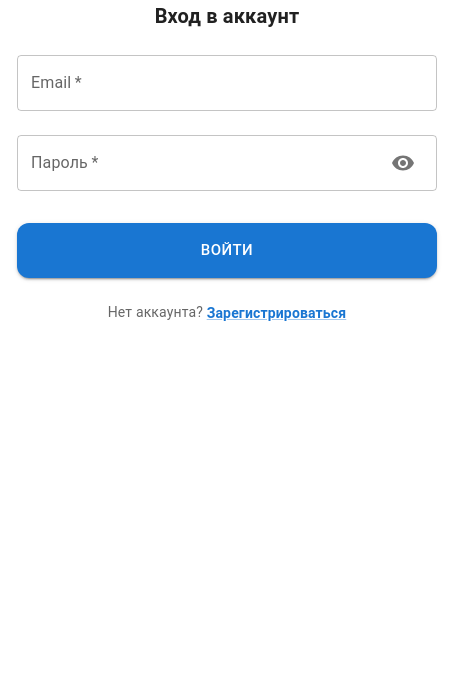
Test: LoginForm › Form rendering › должен переключаться на форму регистрации при нажатии на ссылку
This screenshot has width=455, height=680.
Click the button "Зарегистрироваться" at x=276, y=313, box x1=207 y1=303 x2=346 y2=323
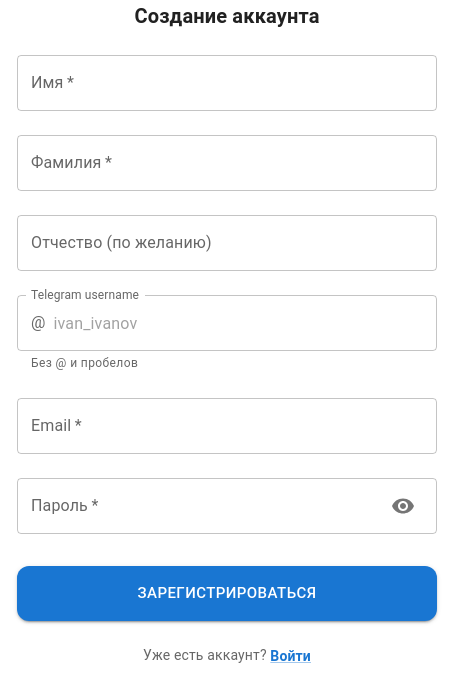
expect the field labelled "Email *" is shown: met, box x1=17 y1=398 x2=437 y2=454
expect the field labelled "Имя *" is shown: met, box x1=17 y1=55 x2=437 y2=111
expect the field labelled "Фамилия *" is shown: met, box x1=17 y1=135 x2=437 y2=191
